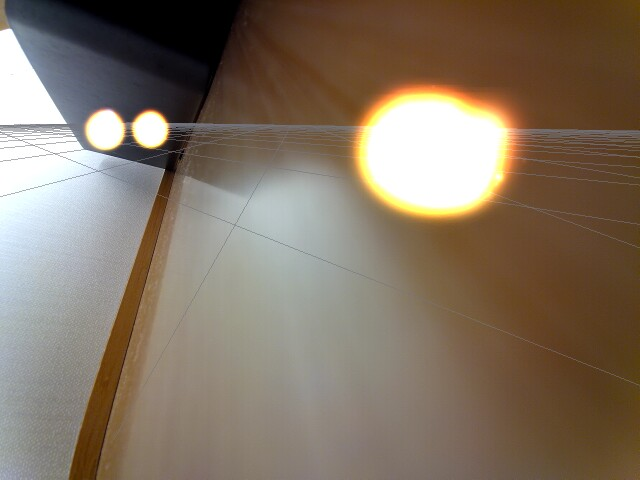firebig: (342, 61, 510, 233)
